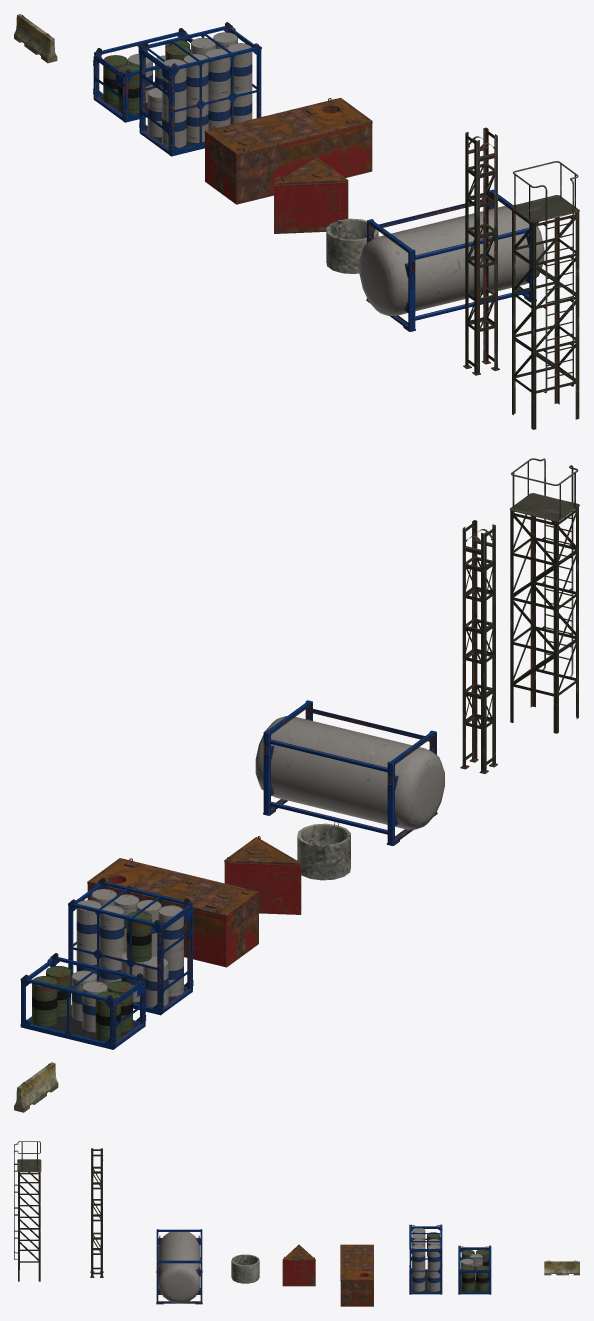
The model's file is Props.FBX.
3 views of the same model, one above another, from view 1: azimuth 30°, elevation 25°; view 2: azimuth 150°, elevation 25°; view 3: azimuth 270°, elevation 25° (orthographic). The views are drawn at different scales.
Visible parts, largest first — view 1: Props_7, Props_3, Props_4, Props_9, Props_8, Props_5, Props_2, Props_6, Props_1; view 2: Props_7, Props_3, Props_9, Props_2, Props_4, Props_8, Props_5, Props_6, Props_1; view 3: Props_7, Props_3, Props_4, Props_9, Props_2, Props_5, Props_8, Props_6, Props_1.
Boxes of the visible parts, x1,y1,x2,y2 form: Props_7: [359, 189, 544, 331]; Props_3: [139, 22, 261, 156]; Props_4: [204, 97, 372, 204]; Props_9: [511, 161, 579, 429]; Props_8: [463, 127, 499, 375]; Props_5: [274, 155, 348, 233]; Props_2: [93, 28, 193, 122]; Props_6: [326, 216, 378, 273]; Props_1: [14, 14, 57, 63]; Props_7: [255, 700, 444, 845]; Props_3: [68, 877, 193, 1015]; Props_9: [509, 458, 579, 733]; Props_2: [20, 953, 146, 1049]; Props_4: [87, 858, 259, 967]; Props_8: [460, 520, 497, 773]; Props_5: [224, 836, 301, 914]; Props_6: [297, 821, 350, 880]; Props_1: [14, 1062, 58, 1112]; Props_7: [156, 1229, 202, 1304]; Props_3: [409, 1224, 442, 1294]; Props_4: [340, 1244, 373, 1306]; Props_9: [14, 1141, 41, 1281]; Props_2: [458, 1245, 491, 1294]; Props_5: [282, 1244, 315, 1286]; Props_8: [90, 1148, 103, 1277]; Props_6: [231, 1254, 259, 1283]; Props_1: [544, 1260, 579, 1275].
Size of the model in its own units: 130 by 195 by 779.
Materials: 1 (1 with a texture image).
